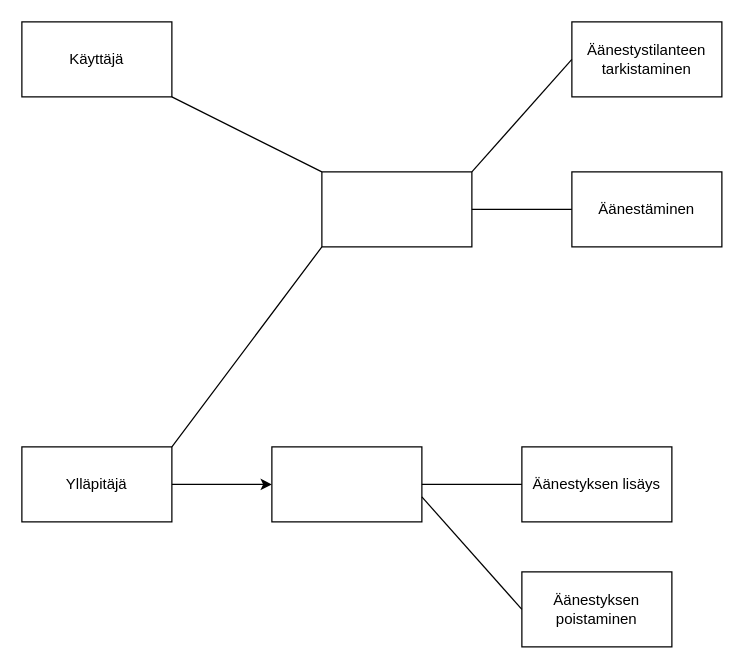
Image size: 744x669. Some labels were removed from this diagram. The centre of each missing label's shape, as x and y in pixels:
Ylläpitopaneeli: [346,484]
Äänestykset: [396,209]
